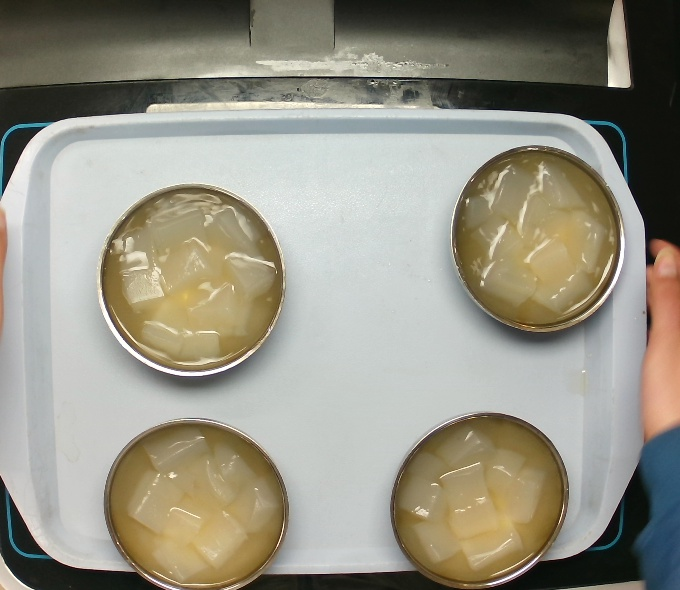wcq-YeGuoLi: (89, 181, 298, 374), (382, 402, 582, 589), (450, 134, 623, 342), (105, 414, 293, 587)
